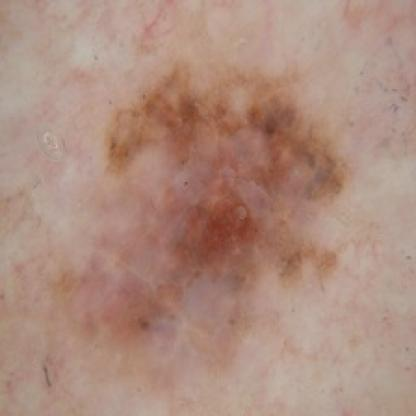Skin_Cancer-Malignant: (64, 55, 350, 377)
